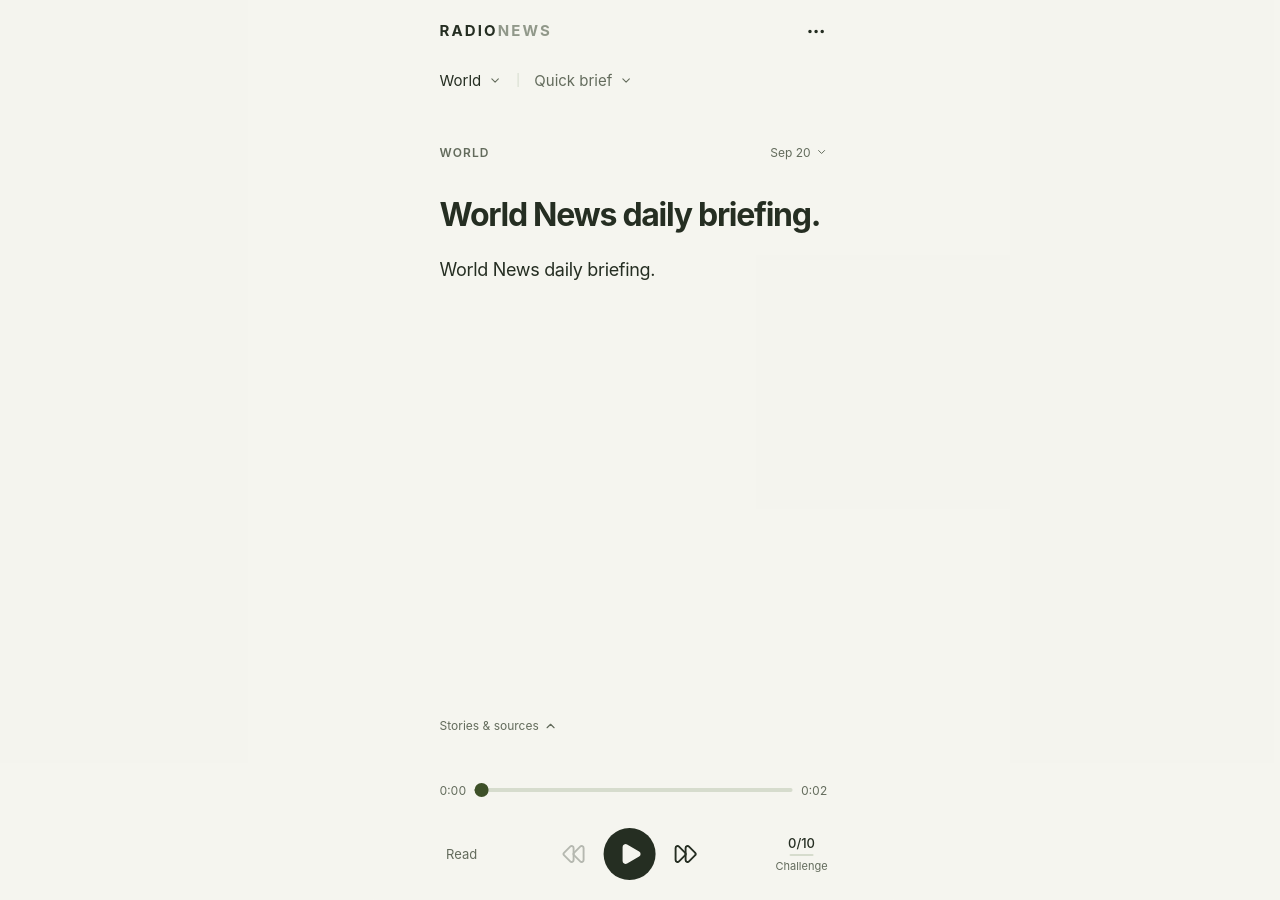
Test: an empty ranked feed explains the selection, disables play and can return to Relevant
Check: the heading "World News daily briefing." is shown, box [444,198,832,232]
Click the button with aria-label "Topic:" at (475, 80), box [444,58,506,102]
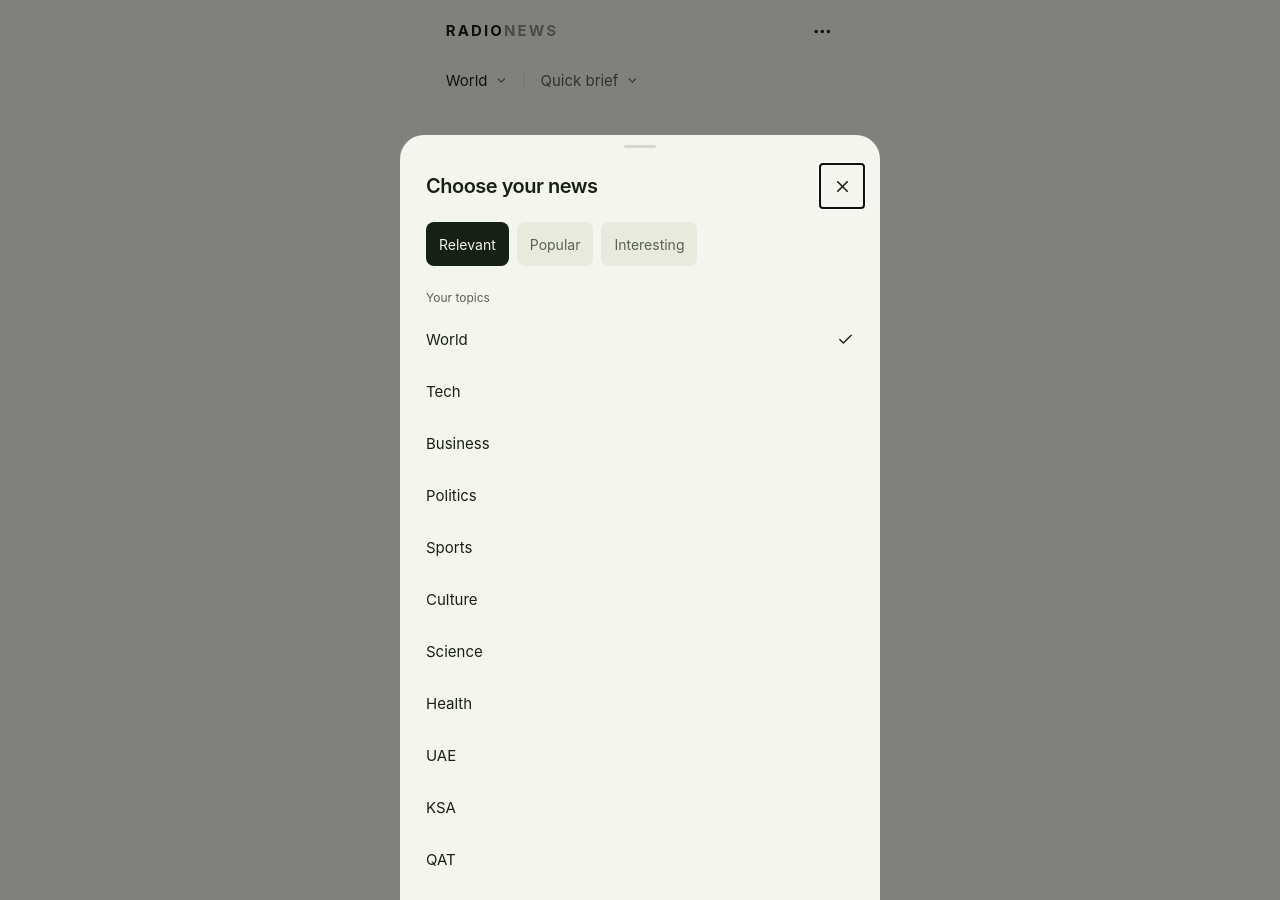
Click the button "Popular" at (555, 244), box [517,222,593,266]
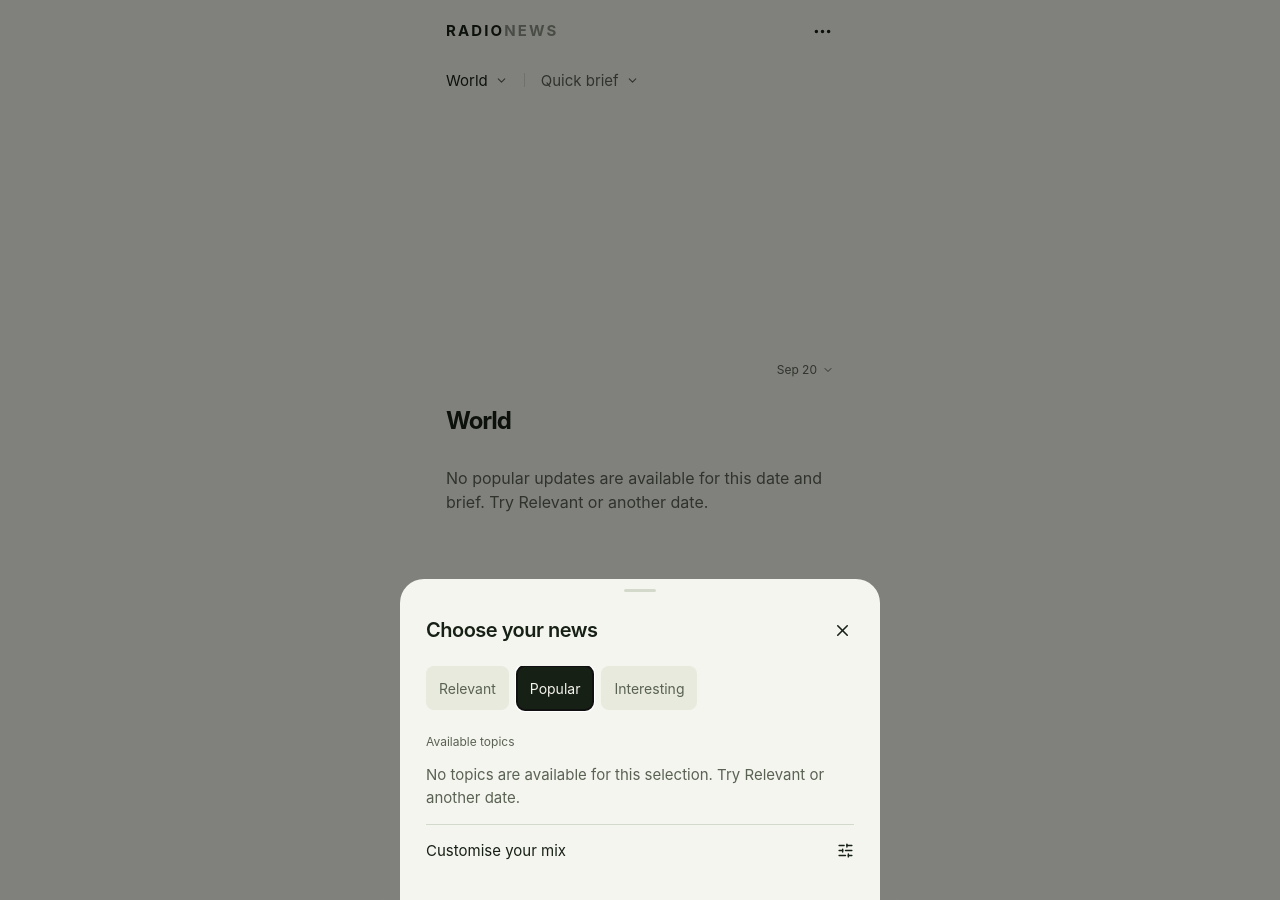
Click the button named "Close briefing options" at (842, 630), box [820,608,864,652]
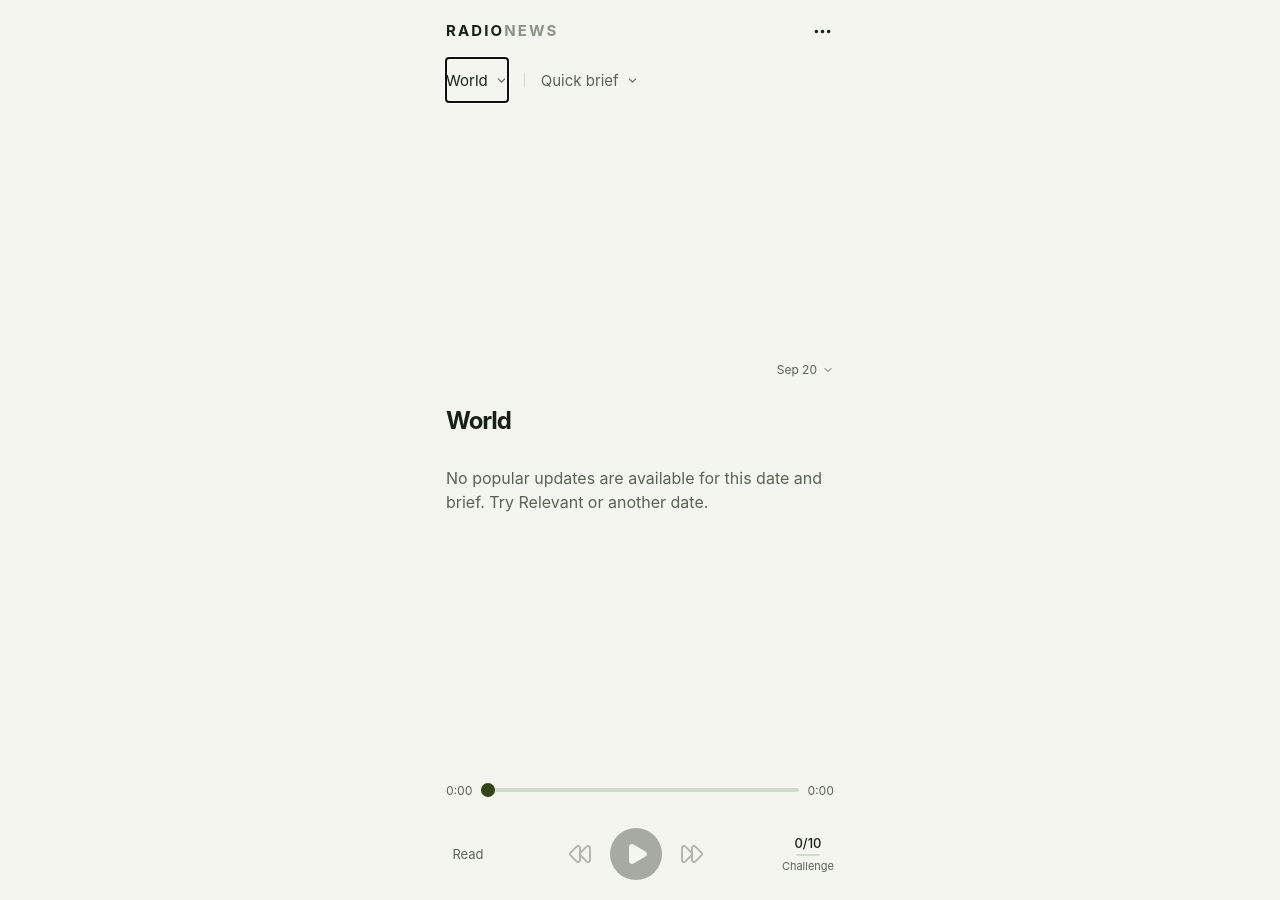
Check: the text "No popular updates are available" is shown, box [446,468,822,512]
Check: the button named "Play" is disabled, box [610,828,662,880]
Check: the dialog is gone
Click the button with aria-label "Topic:" at (477, 80), box [446,58,508,102]
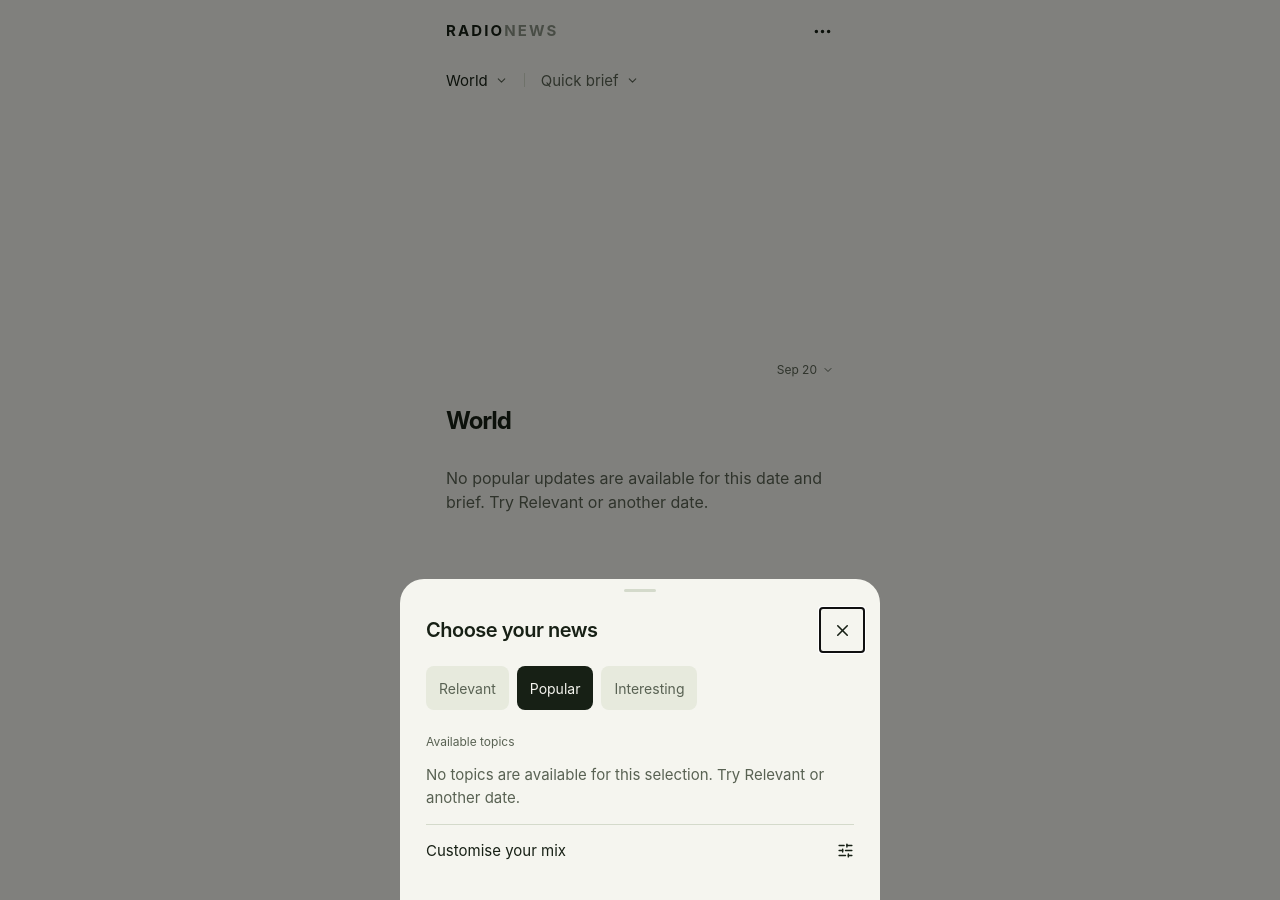
Click the button "Relevant" at (467, 688), box [426,666,509,710]
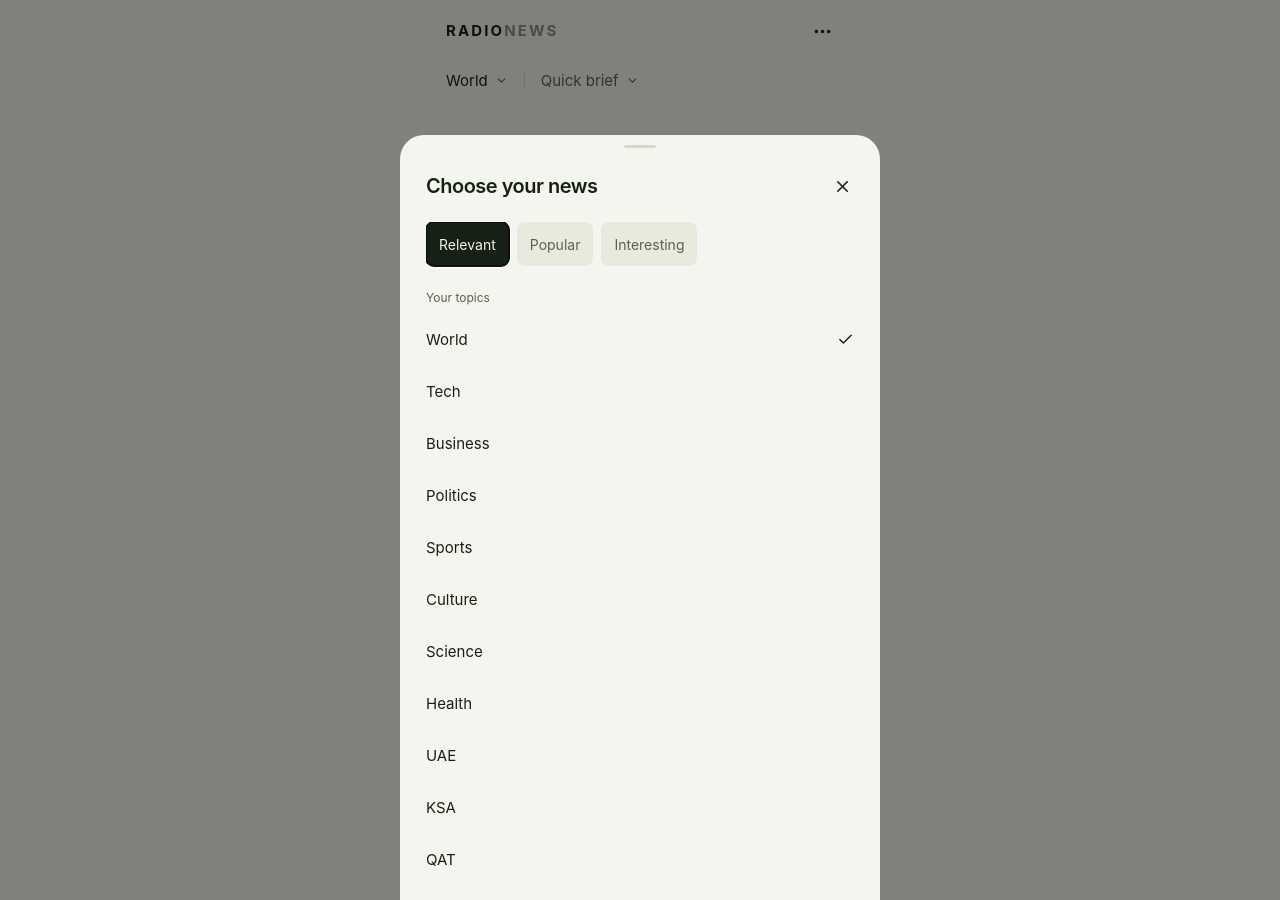
Click the button named "Close briefing options" at (842, 186), box [820,164,864,208]
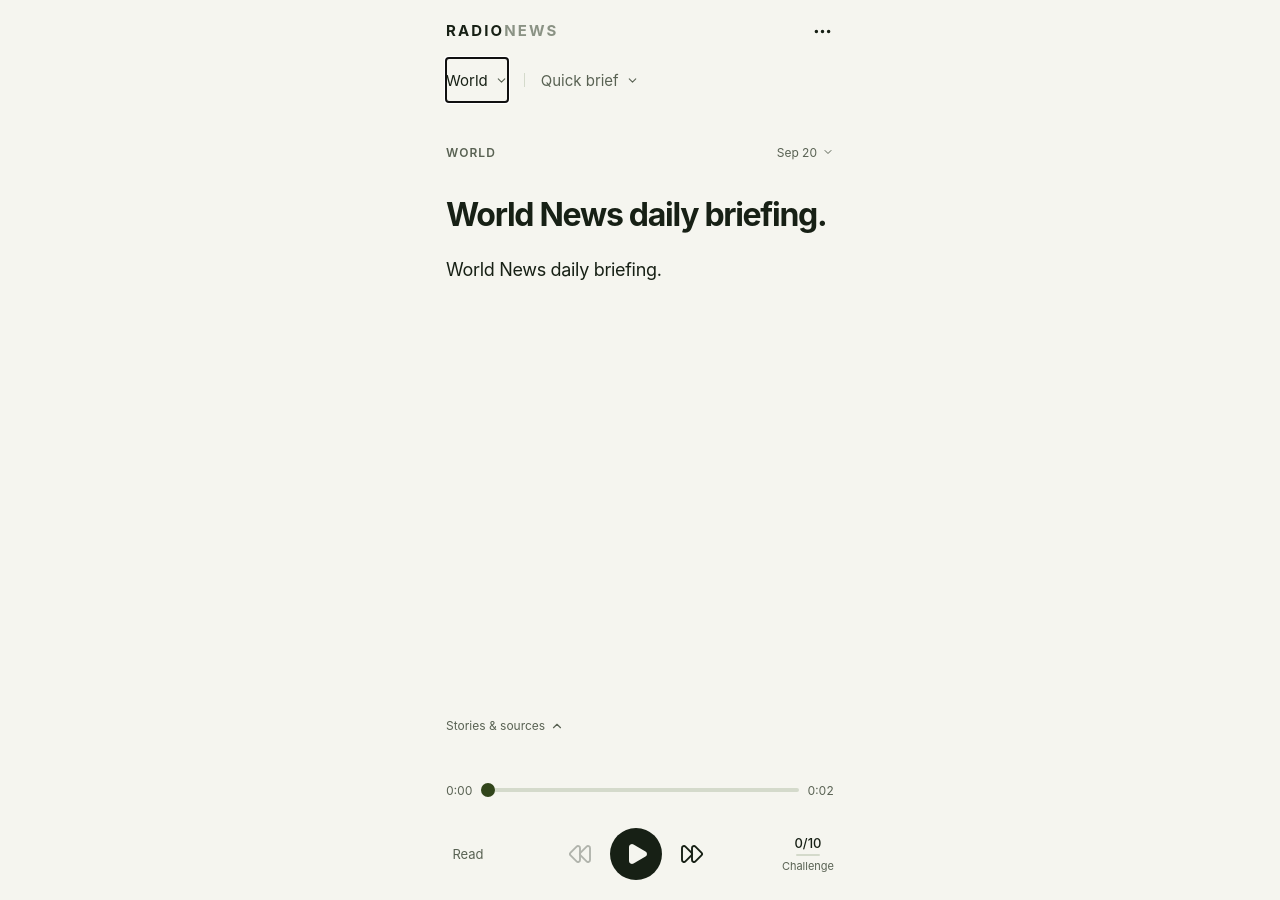
Check: the heading "World News daily briefing." is shown, box [446,198,834,232]
Check: the button named "Play" is enabled, box [610,828,662,880]
Check: the dialog is gone
